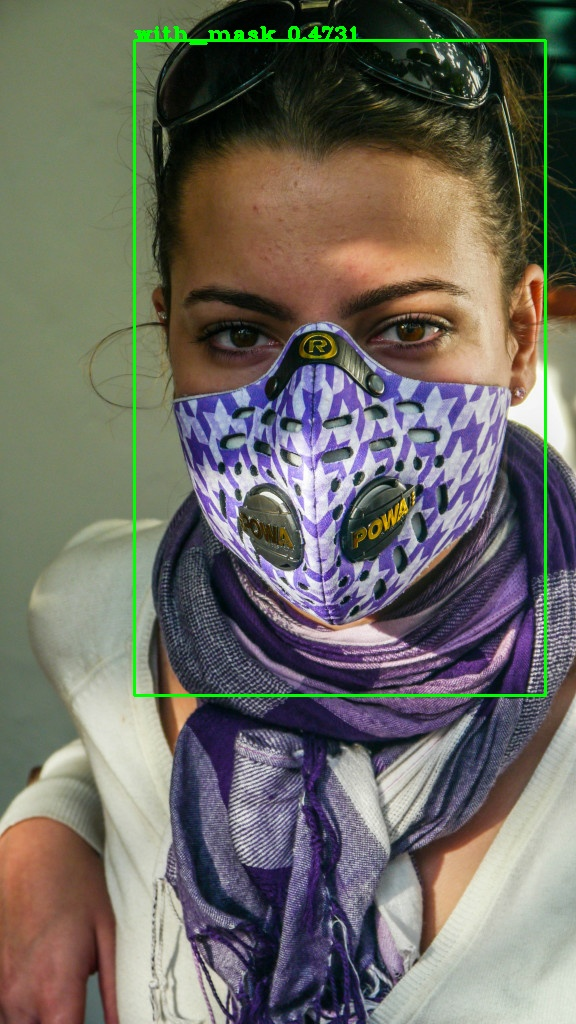with_mask: (140, 153, 547, 604)
